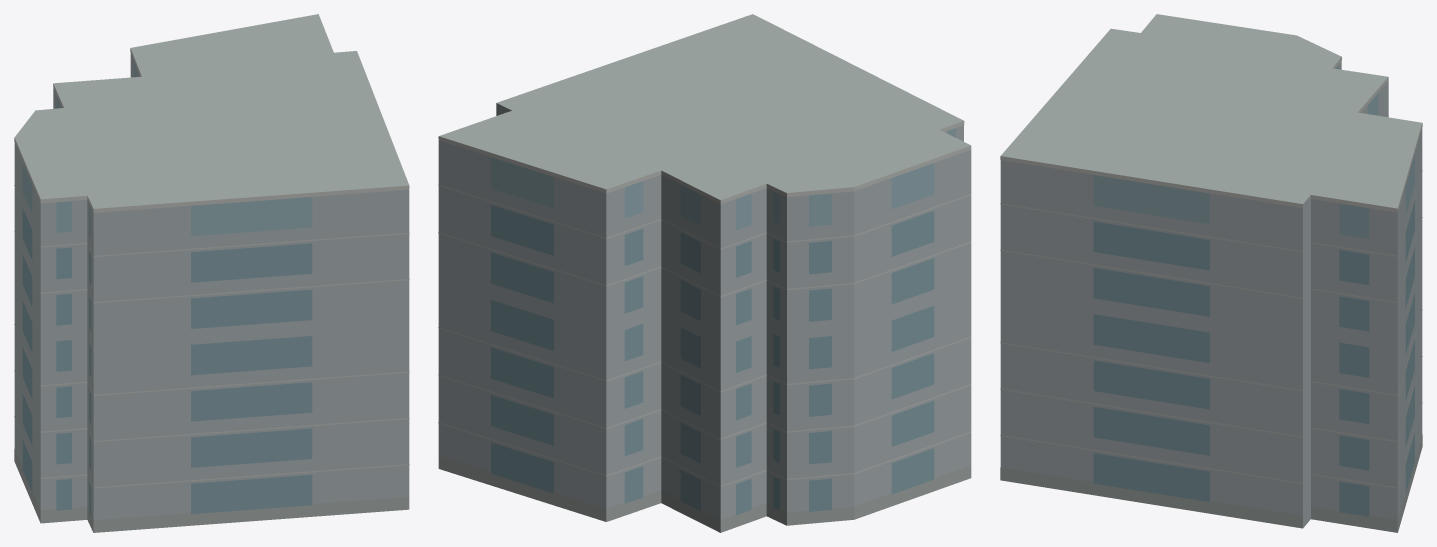
The model's file is survey-upis-32879548.glb.
3 views of the same model, side by side, from view 1: azimuth 30°, elevation 25°; view 2: azimuth 150°, elevation 25°; view 3: azimuth 270°, elevation 25° (orthographic). The views are drawn at different scales.
Visible parts, largest first — view 1: survey-upis-32879548.tmp; view 2: survey-upis-32879548.tmp; view 3: survey-upis-32879548.tmp.
Boxes of the visible parts, x1,y1,x2,y2 form: survey-upis-32879548.tmp: [14, 14, 409, 532]; survey-upis-32879548.tmp: [438, 14, 971, 532]; survey-upis-32879548.tmp: [1000, 14, 1422, 532].
Bounding box in the file's own units: 25.12 × 19.5 × 23.02.
